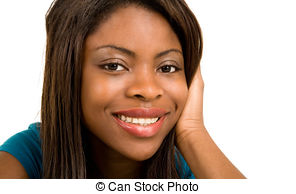face: (50, 1, 209, 164)
